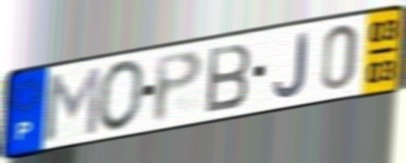0: (318, 21, 361, 94)
B: (204, 40, 254, 116)
J: (272, 30, 310, 100)
M: (43, 63, 104, 144)
O: (96, 57, 148, 134)
P: (152, 47, 206, 126)
